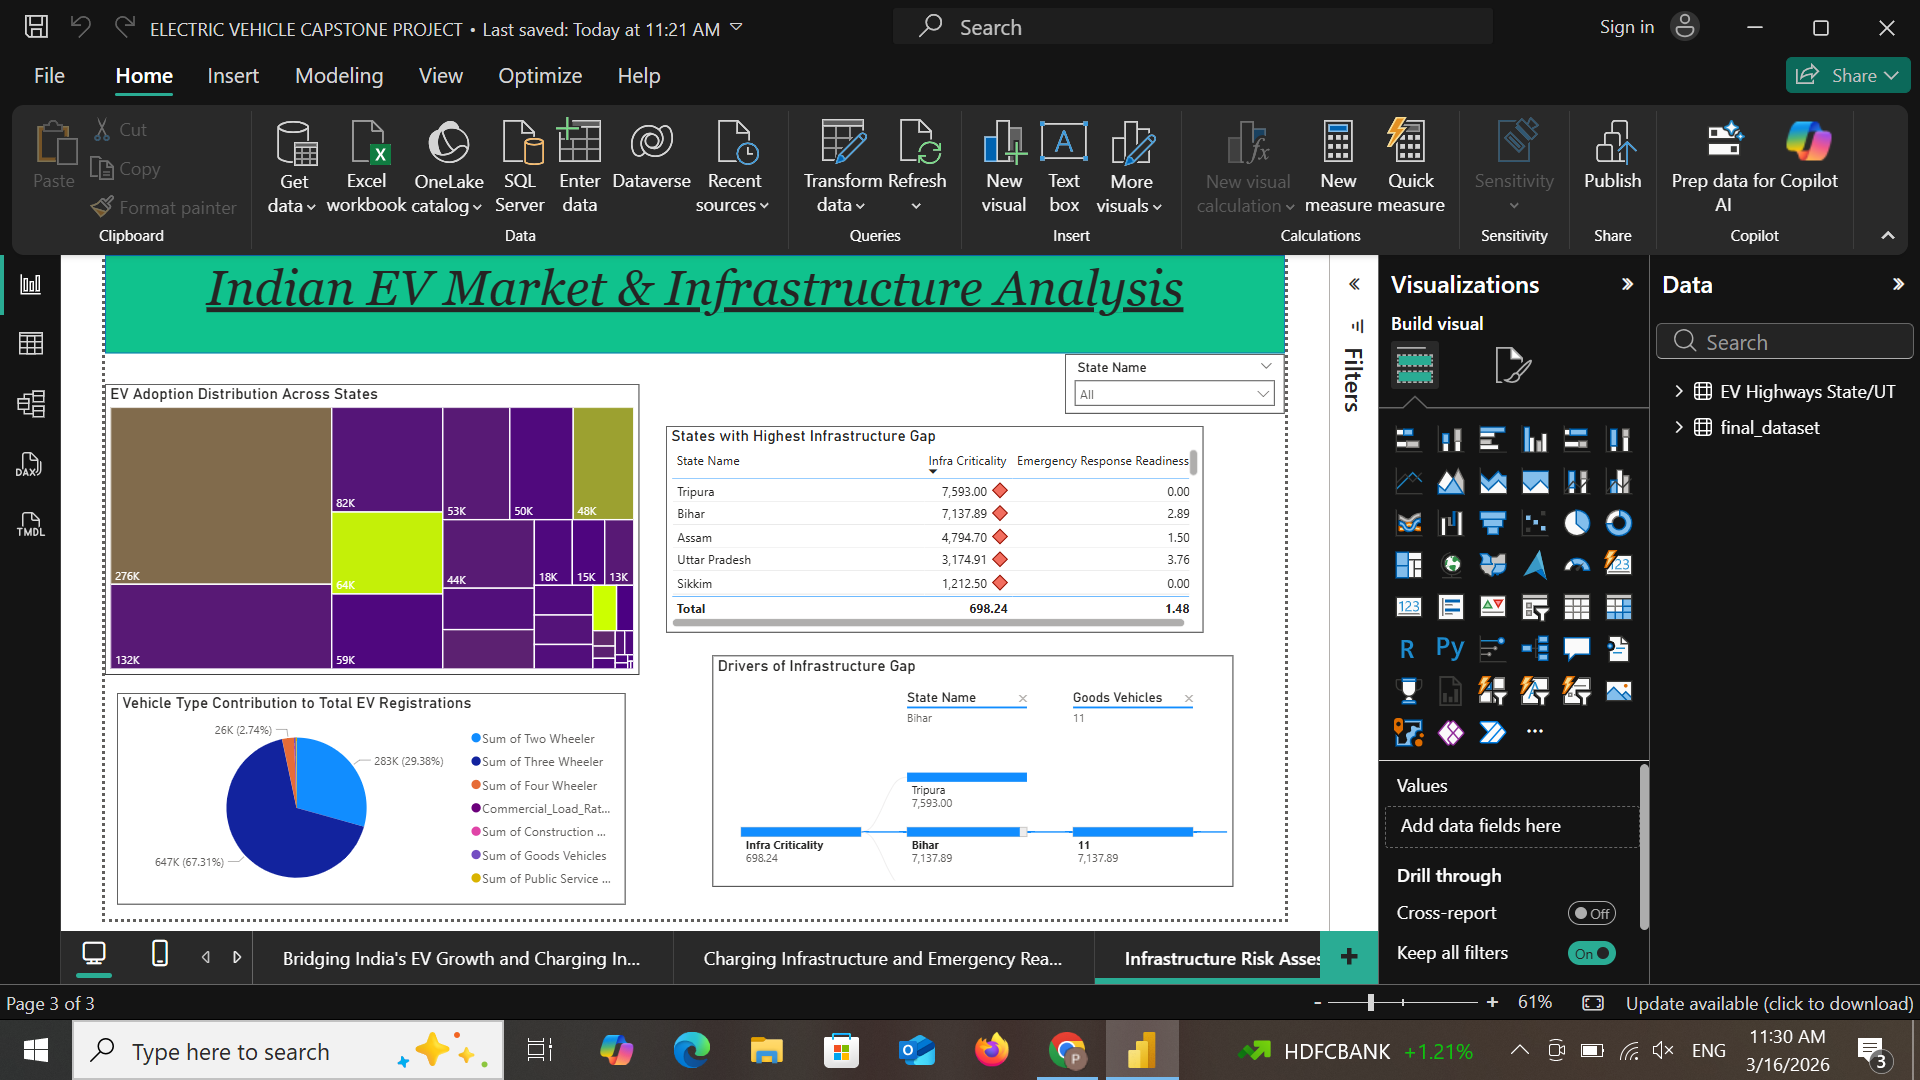

Layout of this report page (visuals, bound fields, positions):
{"tool":"powerbi","page":{"name":"Infrastructure Risk Assessment & High Priority States","canvas":[1280,720],"ordinal":2},"visuals":[{"type":"shape","box":[0,0,1279.4,106.8],"z":0},{"type":"textbox","box":[0,0,1279.4,106.8],"z":1000},{"type":"slicer","fields":{"Values":["final_dataset.State Name"]},"box":[1041.4,106.8,238,64.8],"z":2000},{"type":"treemap","title":"EV Adoption Distribution Across States","fields":{"Group":["final_dataset.State Name"],"Values":["Sum(final_dataset.Total EV Registrations)"]},"box":[0,140,579.3,315],"z":3000},{"type":"tableEx","title":"States with Highest Infrastructure Gap","fields":{"Values":["final_dataset.State Name","final_dataset.Infra Criticality","final_dataset.Emergency Response Readiness"]},"box":[609.1,185.5,582.8,224],"z":4000},{"type":"decompositionTreeVisual","title":"Drivers of Infrastructure Gap","fields":{"Analyze":["final_dataset.Infra Criticality"],"ExplainBy":["final_dataset.State Name","final_dataset.Goods Vehicles","final_dataset.Public Service Vehicle","final_dataset.Four Wheeler","final_dataset.Two Wheeler","final_dataset.Three Wheeler","final_dataset.Construction Equipment Vehicle","final_dataset.Ambulance/Hearses"]},"box":[658.8,434.3,564.4,250.5],"z":5000},{"type":"pieChart","title":"Vehicle Type Contribution to Total EV Registrations","fields":{"Y":["Sum(final_dataset.Two Wheeler)","Sum(final_dataset.Three Wheeler)","Sum(final_dataset.Four Wheeler)","final_dataset.Commercial_Load_Ratio","Sum(final_dataset.Construction Equipment Vehicle)","Sum(final_dataset.Goods Vehicles)","Sum(final_dataset.Public Service Vehicle)"]},"box":[13,475,551.4,229.3],"z":6000}]}

Visuals, with their boxes on the page's 1280x720 design canvas (x1, y1, x2, y2). These are canvas units, not pixel positions in the 1920x1080 screenshot, which may show the page scaled, cropped or inside an application window:
shape: 0/0/1279/107
textbox: 0/0/1279/107
slicer - final_dataset.State Name: 1041/107/1279/172
"EV Adoption Distribution Across States" treemap: 0/140/579/455
"States with Highest Infrastructure Gap" tableEx: 609/186/1192/410
"Drivers of Infrastructure Gap" decompositionTreeVisual: 659/434/1223/685
"Vehicle Type Contribution to Total EV Registrations" pieChart: 13/475/564/704
